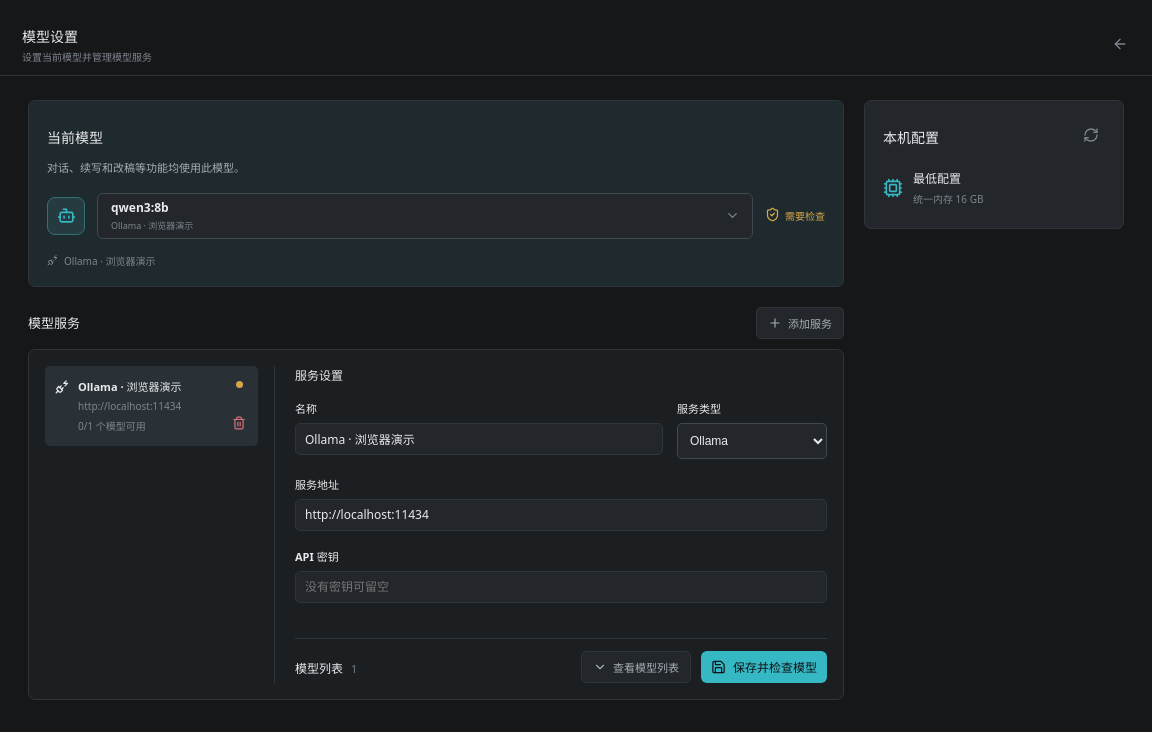
model settings workflow › keeps the cached model list but requires old admissions to pass the new checks
This screenshot has width=1152, height=732.
Check: the text "0/1 个模型可用" is shown, box [78, 419, 146, 433]
Step 1. Click the button "查看模型列表" → (636, 667), box [581, 651, 691, 683]
(page scrolled)
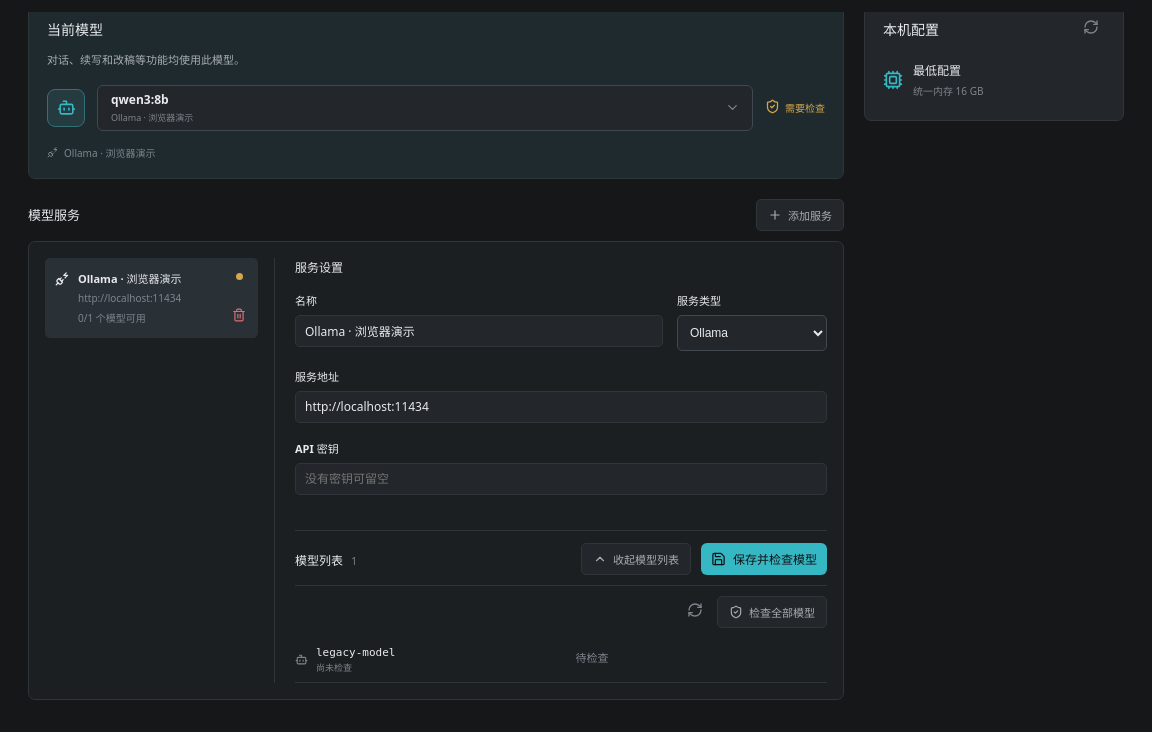
Check: the text "尚未检查" is shown, box [316, 663, 352, 673]
